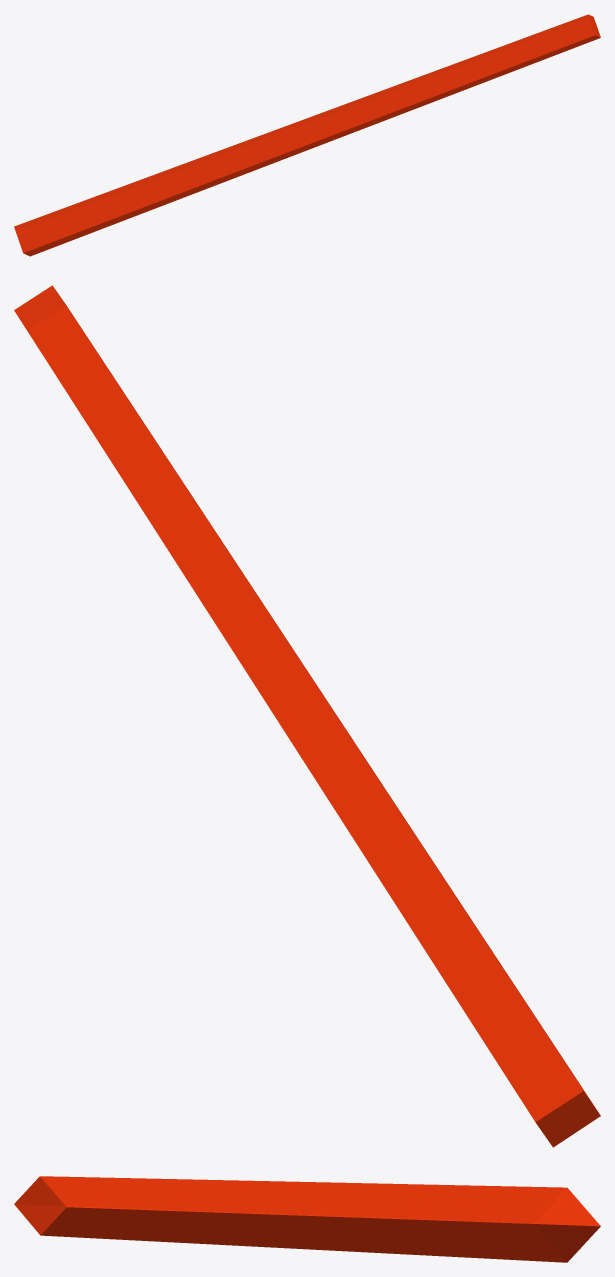
File: Event_421364160_EBrechit_13.fbx
3 renders of one model, top to bottom at view 1: azimuth 30°, elevation 25°; view 2: azimuth 150°, elevation 25°; view 3: azimuth 270°, elevation 25°, orthographic. The views are drawn at different scales.
Parts seen in each view (by area): view 1: Model; view 2: Model; view 3: Model.
Part boxes in pixels (x1,y1,x2,y2): Model: [14, 14, 600, 256]; Model: [14, 285, 600, 1147]; Model: [14, 1176, 600, 1262].
Bounding box in the file's own units: 1.26 × 0.6795 × 0.8065.
